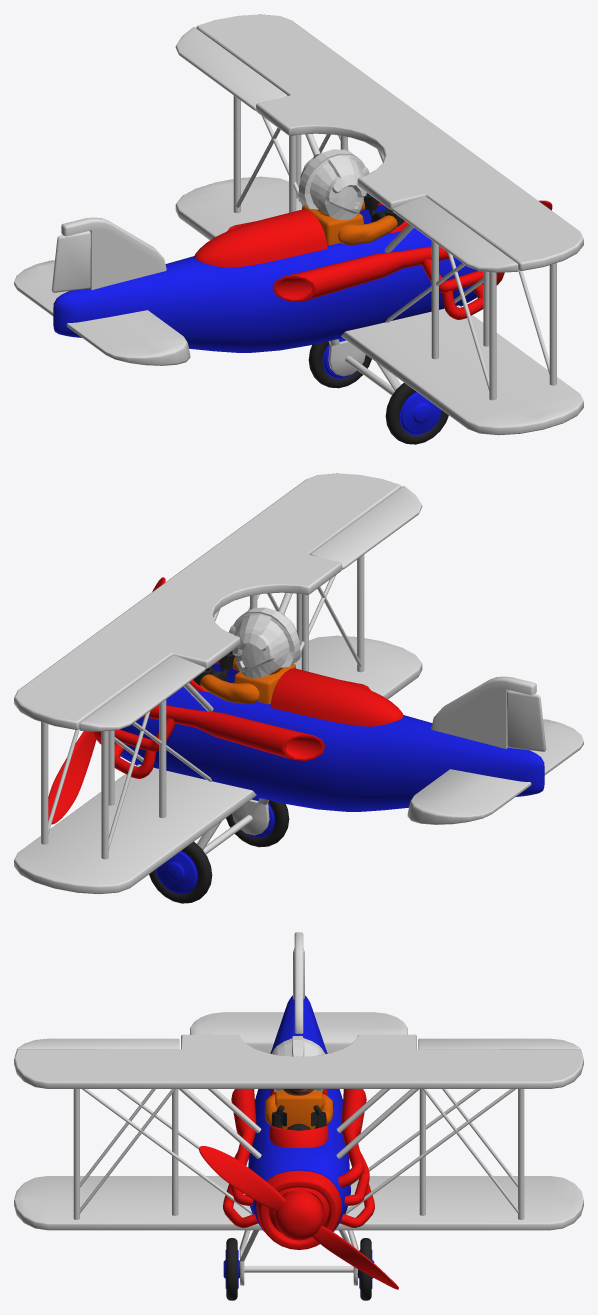
File: fly lego2.fbx
3 renders of one model, top to bottom at view 1: azimuth 30°, elevation 25°; view 2: azimuth 150°, elevation 25°; view 3: azimuth 270°, elevation 25°, orthographic. The views are drawn at different scales.
Visible parts, largest first — view 1: FLY_WHITE, FLY_BLUE, FLY_RED, helm, FLY_BLACK, body_1, body; view 2: FLY_WHITE, FLY_BLUE, FLY_RED, helm, FLY_BLACK, VINT, body_1, body; view 3: FLY_WHITE, FLY_RED, FLY_BLUE, VINT, FLY_BLACK, body, helm, body_1.
Part boxes in pixels (x1,y1,x2,y2): FLY_WHITE: (14,14,583,435); FLY_BLUE: (53,204,483,435); FLY_RED: (194,202,504,319); helm: (298,149,369,220); FLY_BLACK: (308,194,448,444); body_1: (338,200,397,245); body: (302,205,363,245); FLY_WHITE: (14,473,583,894); FLY_BLUE: (114,663,544,894); FLY_RED: (93,661,403,778); helm: (228,607,300,678); FLY_BLACK: (149,653,289,903); VINT: (48,577,165,824); body_1: (200,657,259,704); body: (234,664,295,704); FLY_WHITE: (14,932,583,1285); FLY_RED: (223,1089,374,1249); FLY_BLUE: (223,995,374,1288); VINT: (199,1146,398,1289); FLY_BLACK: (226,1105,371,1300); body: (275,1089,322,1129); helm: (271,1036,325,1092); body_1: (264,1094,333,1125).
Size of the model in its own units: 118 by 68.12 by 147.
Materials: 6 (1 with a texture image).
